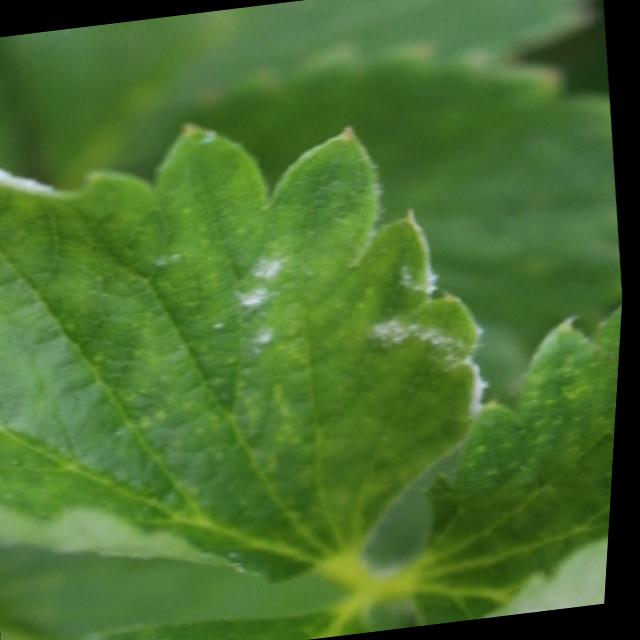Powdery Mildew Leaf: (0, 118, 492, 591), (408, 299, 626, 626)
